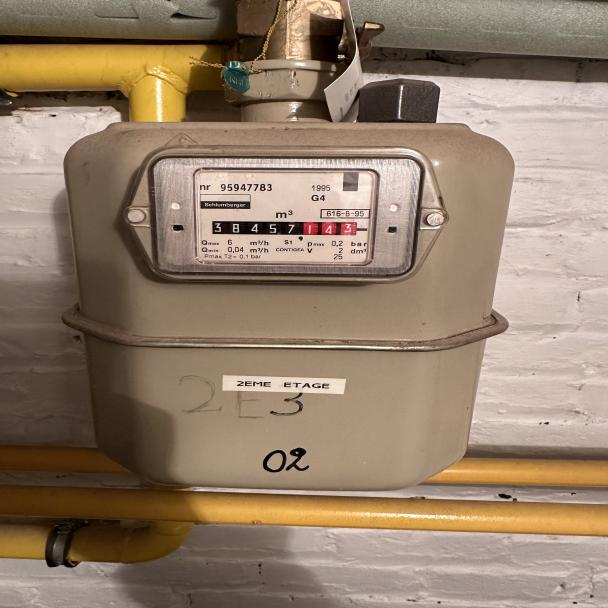1: (303, 222, 322, 236)
3: (339, 221, 361, 238), (209, 219, 230, 236)
4: (321, 221, 342, 237), (248, 220, 268, 235)
5: (266, 218, 284, 238)
7: (284, 219, 303, 238)
8: (228, 220, 248, 237)
cm: (304, 219, 364, 239)
counter: (210, 218, 308, 241)
